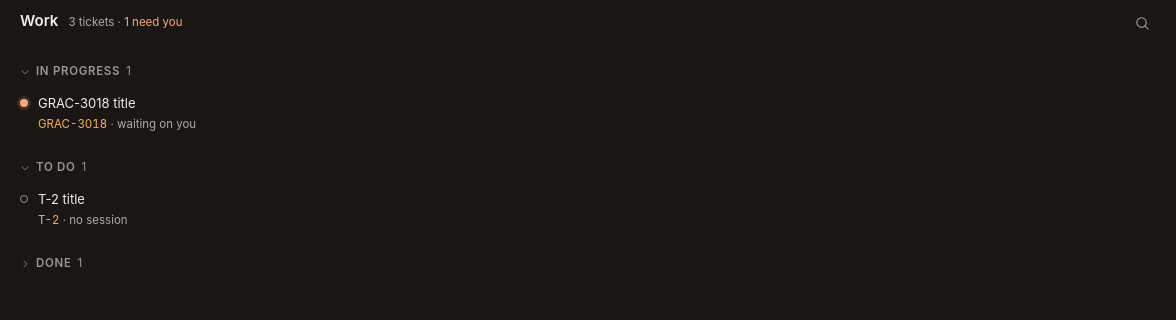
it: WorkPanel rows (HIVE-203) › shows the search box only once the search button is pressed
The width and height of the screenshot is (1176, 320).
Check: the search field labelled "Search tickets" is not shown
Click the button named "Search tickets".
click(1142, 24)  # box [1129,10,1156,37]
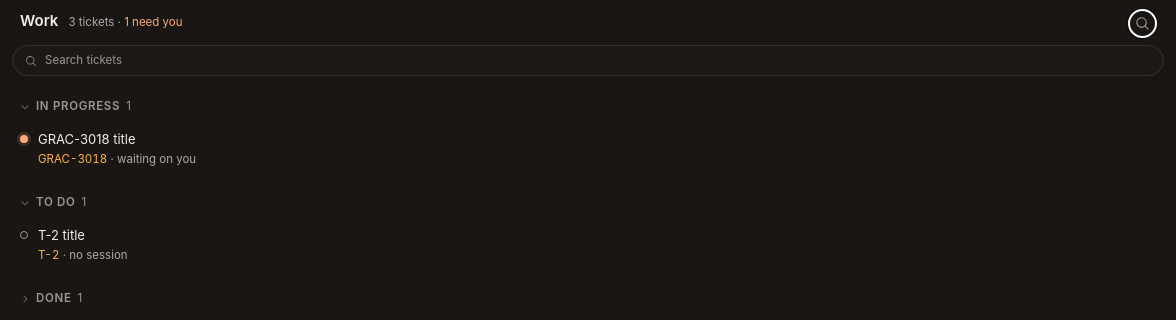
Check: the search field labelled "Search tickets" is shown, box [45,52,1151,69]
